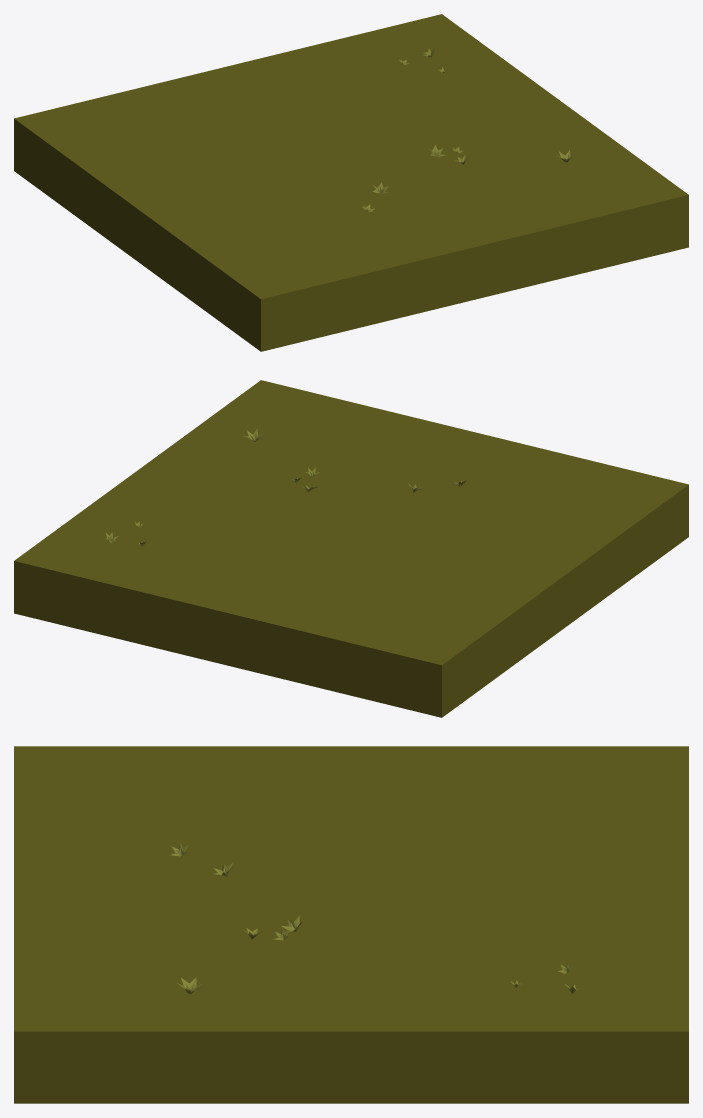
The model's file is Chao 02.fbx.
3 views of the same model, one above another, from view 1: azimuth 30°, elevation 25°; view 2: azimuth 150°, elevation 25°; view 3: azimuth 270°, elevation 25° (orthographic). The views are drawn at different scales.
Parts seen in each view (by area): view 1: Chão 02; view 2: Chão 02; view 3: Chão 02.
Boxes of the visible parts, x1=… form: Chão 02: x1=14, y1=14, x2=688, y2=351; Chão 02: x1=14, y1=380, x2=688, y2=717; Chão 02: x1=14, y1=746, x2=688, y2=1103.
Bounding box in the file's own units: 200 × 27.91 × 200.
